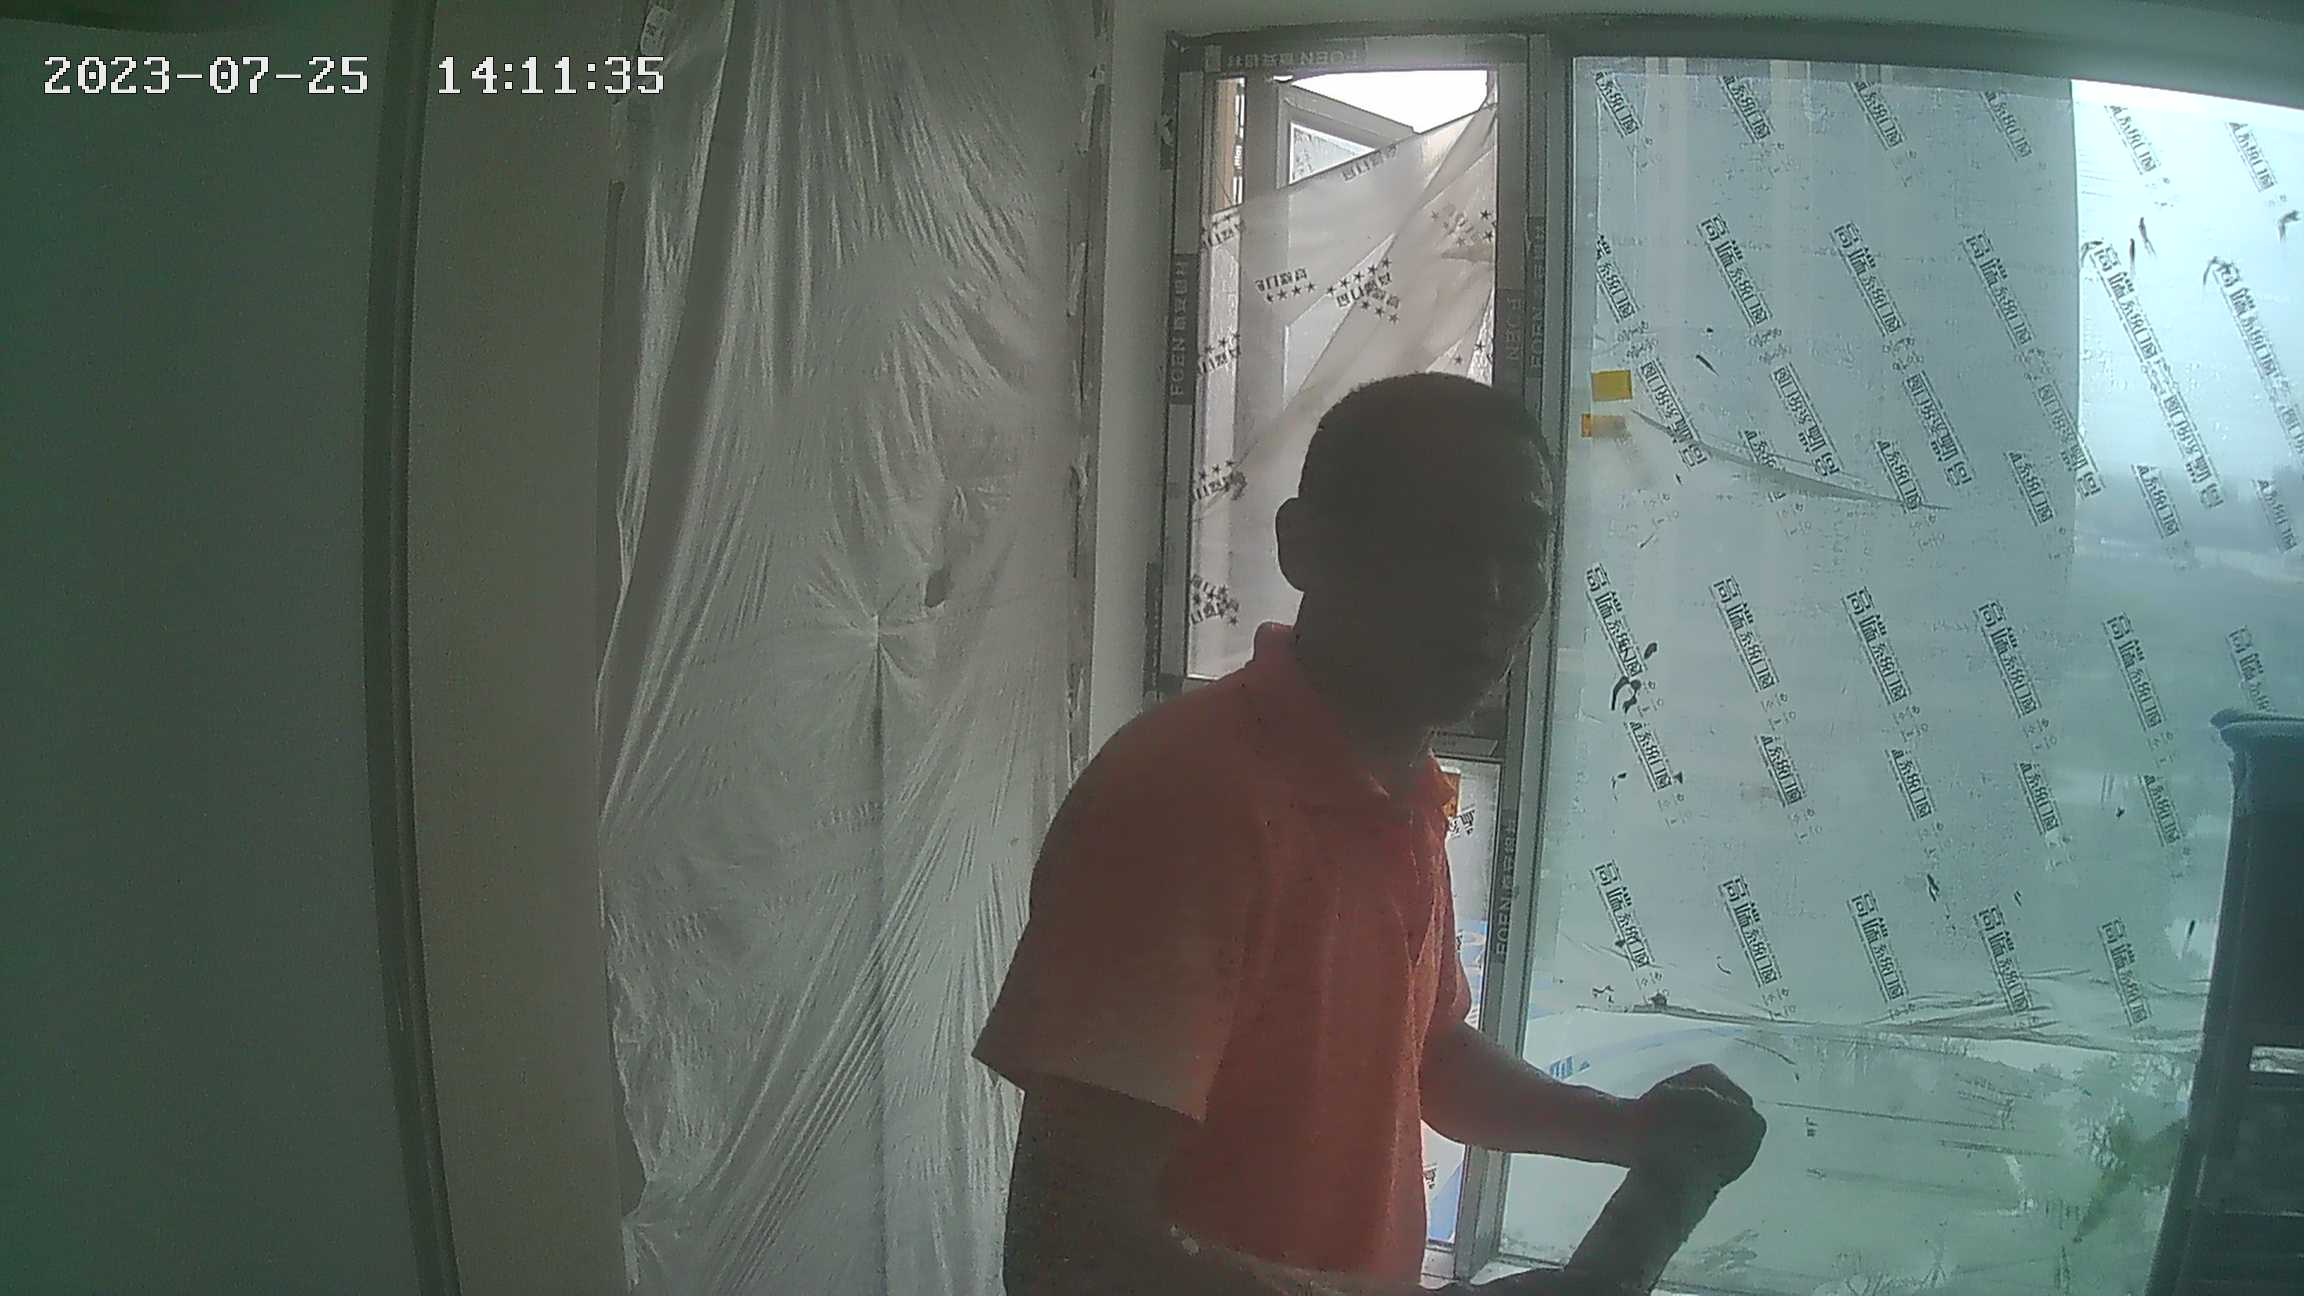people: (966, 376, 1746, 1296)
window: (1175, 24, 2303, 1296)
